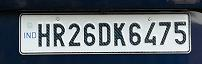2: (67, 21, 80, 46)
4: (143, 20, 156, 45)
5: (173, 19, 185, 45)
6: (127, 21, 142, 45), (82, 20, 95, 46)
7: (155, 20, 171, 45)
D: (97, 20, 110, 45)
H: (35, 21, 51, 46)
K: (112, 20, 126, 47)
R: (51, 21, 65, 46)
